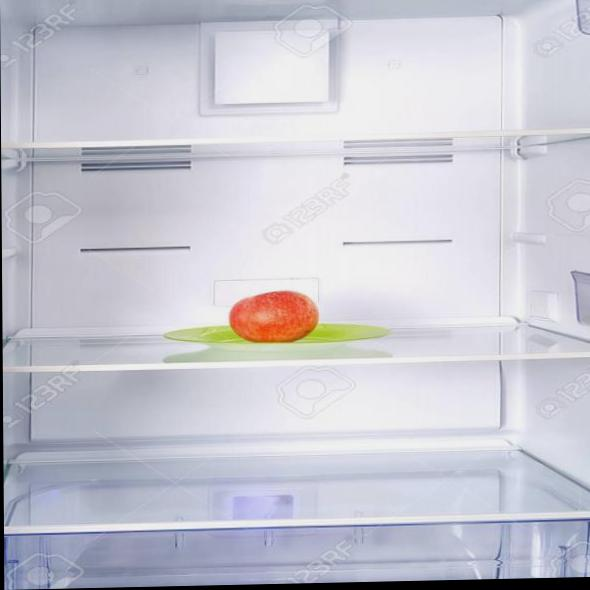apple: (232, 290, 321, 344)
